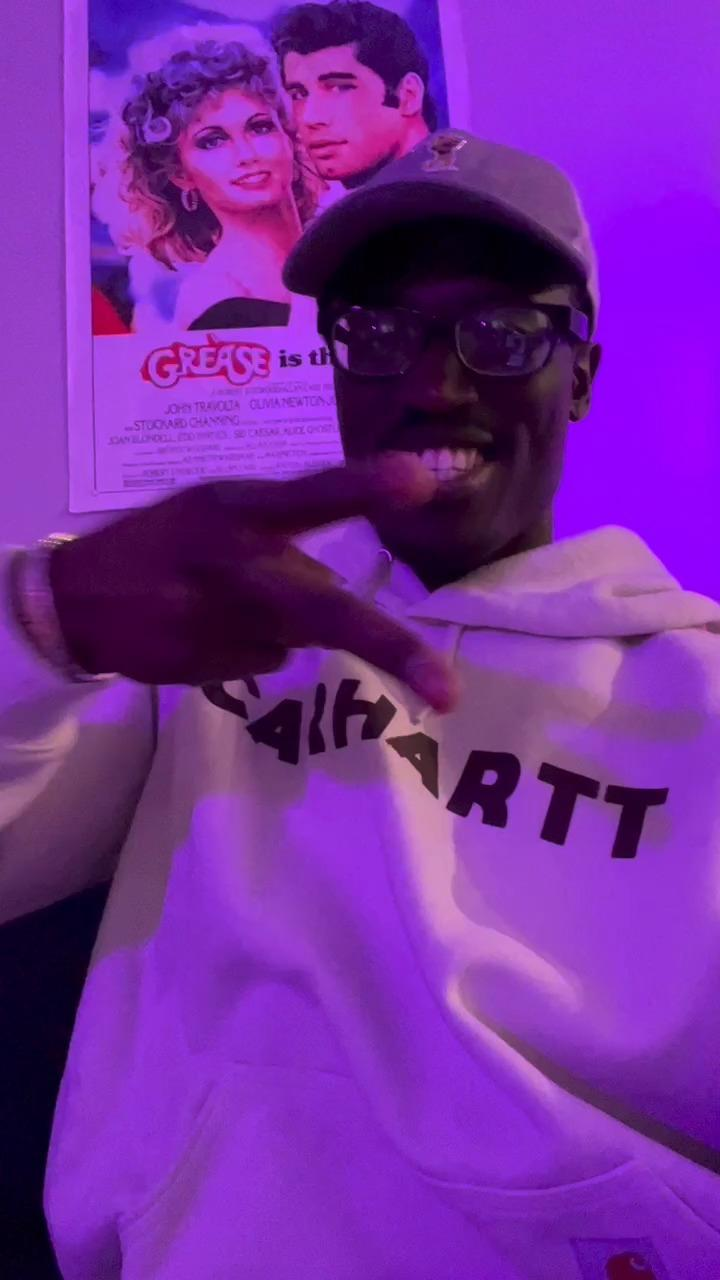Scissors: (36, 450, 464, 715)
